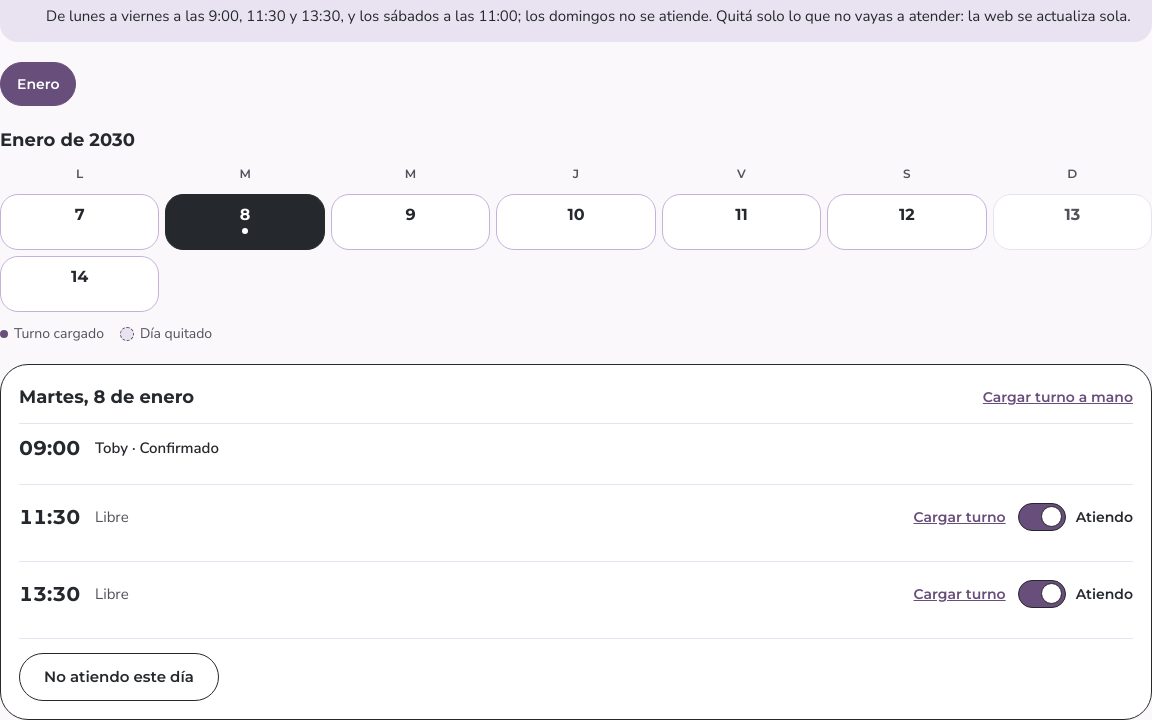
Scenario: ScheduleManager › warns that removing a day does not cancel the turns it already has
(page scrolled)
Click the button "No atiendo este día": click(119, 677) [19,653,219,701]
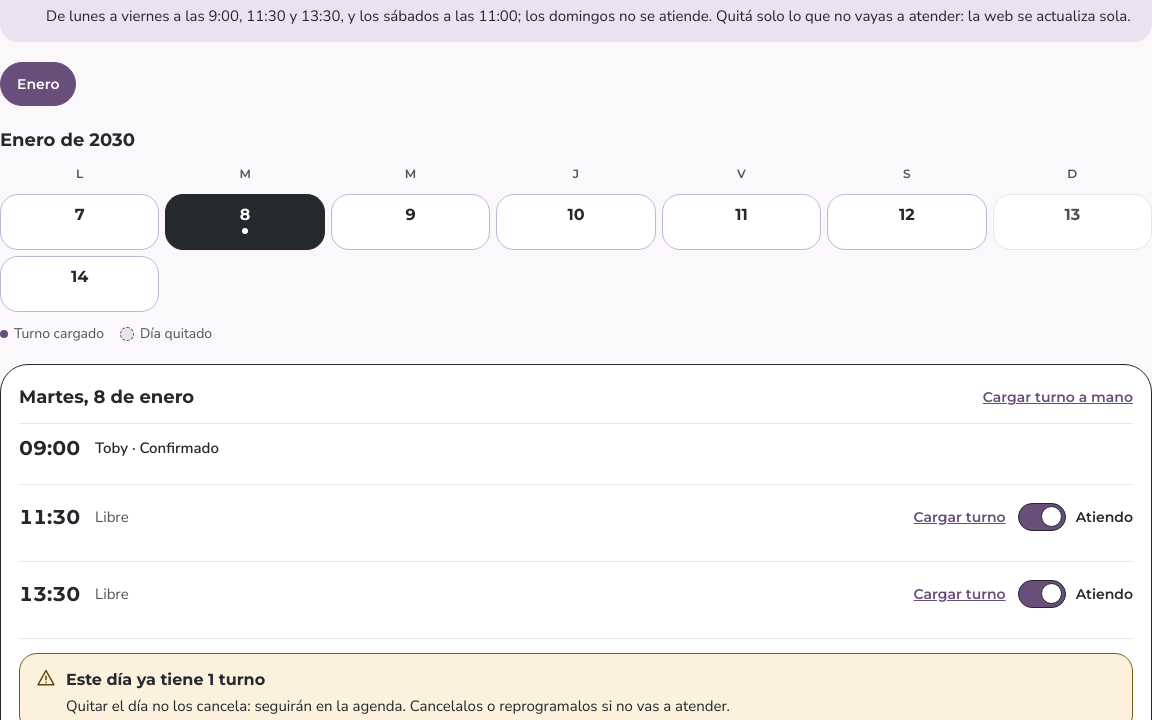
expect the text "Este día ya tiene 1 turno" is shown: met, box [66,670,265,689]
expect the text "no los cancela" is shown: met, box [66,696,730,716]
